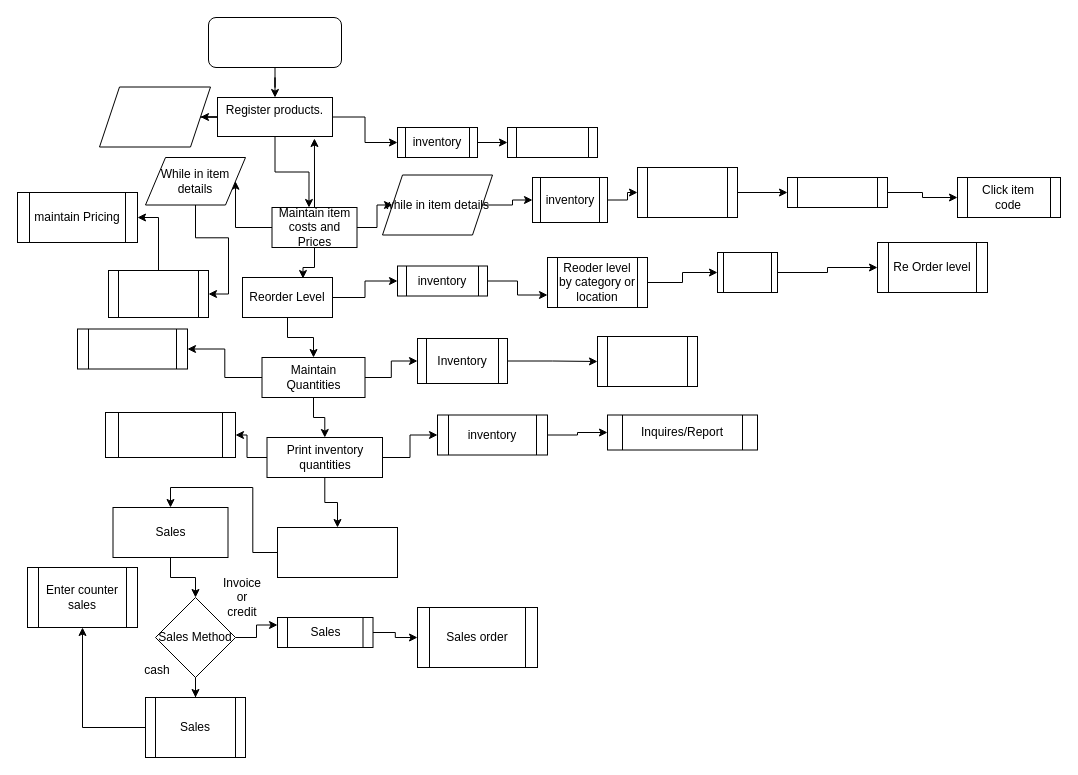
Image size: 1078x775. Some labels were removed from this diagram. Here are the shapes that lost their labels. From the top down, the centre of each, then its label:
At [275,42]: "Give Code to your products".
At [154,116]: "Maintain item and Costs while in register products".
At [552,142]: "Add new item".
At [687,192]: "maintainance".
At [837,192]: "select item".
At [747,272]: "Submit button".
At [158,294]: "Maintain standard cost".
At [132,348]: "inventory adjustments".
At [647,361]: "inventory location transfer".
At [170,435]: "inventory Qunatities".
At [337,552]: "Print Valuation Report".
